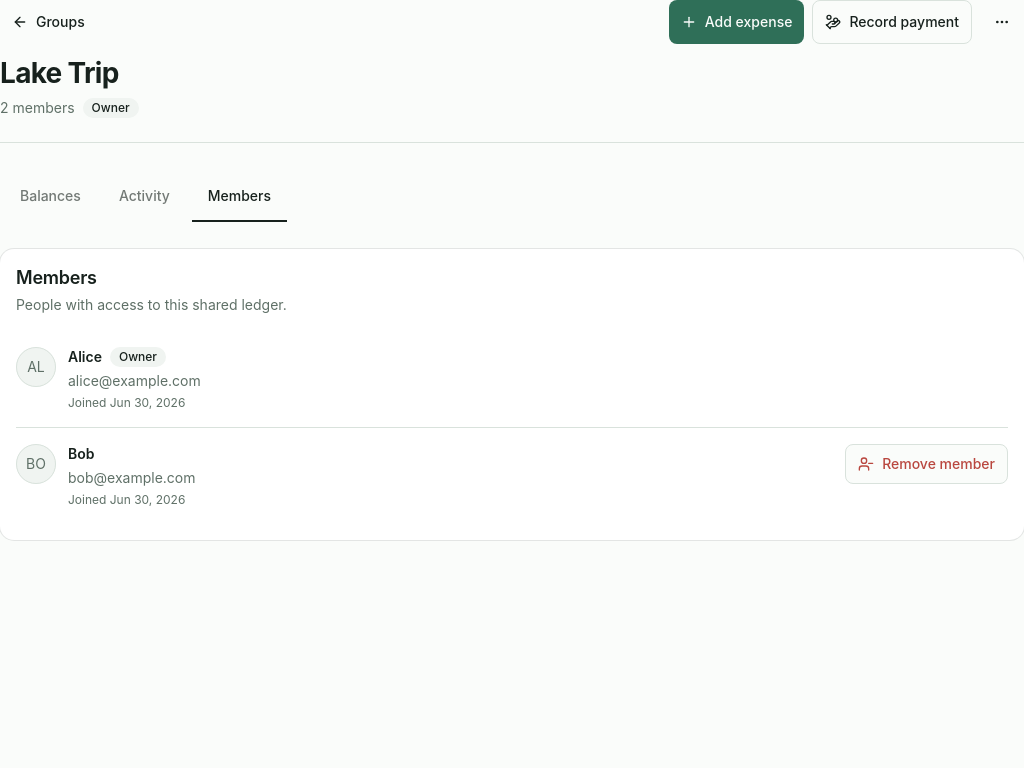
Test case: owner member removal revalidation › treats detail 200 without the target as a proven concurrent removal
Click the button with aria-label "Remove member Bob" at x=927, y=464, box top-left (845, 444), bottom-right (1008, 484)
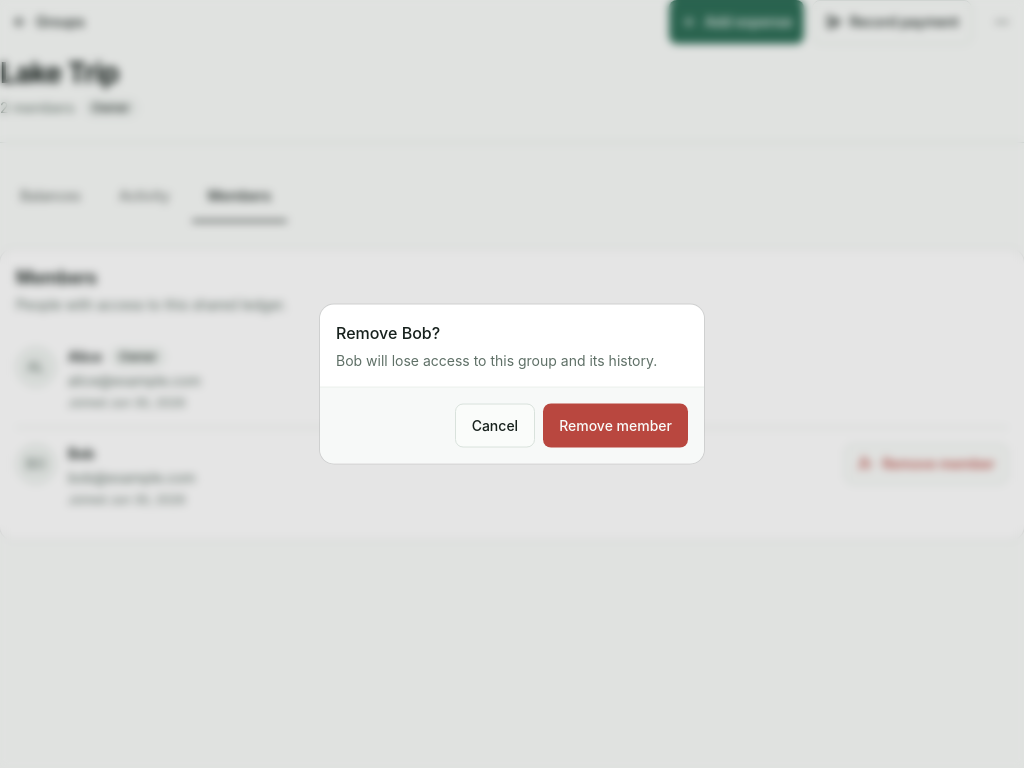
Now the dialog is shown, box top-left (320, 304), bottom-right (704, 464)
Click the button "Remove member" at x=616, y=426, box top-left (543, 404), bottom-right (688, 448)
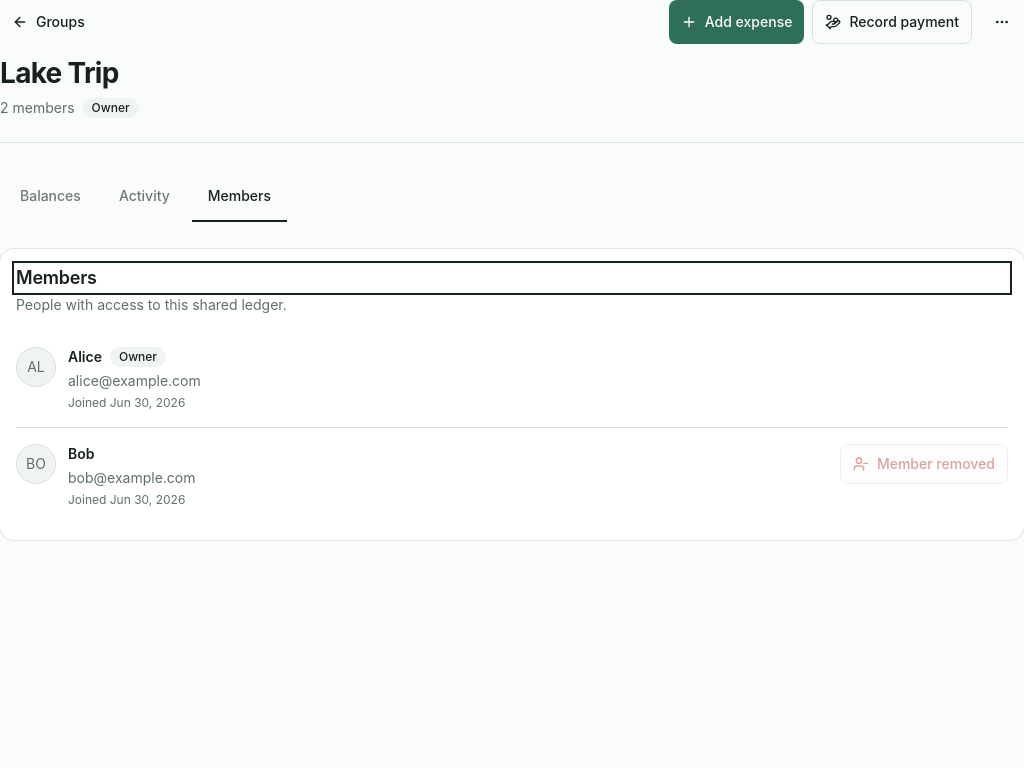
Now the dialog is gone
